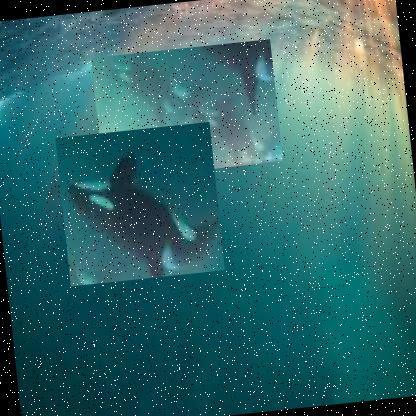killer_whale: (53, 122, 224, 286), (90, 38, 283, 180)
